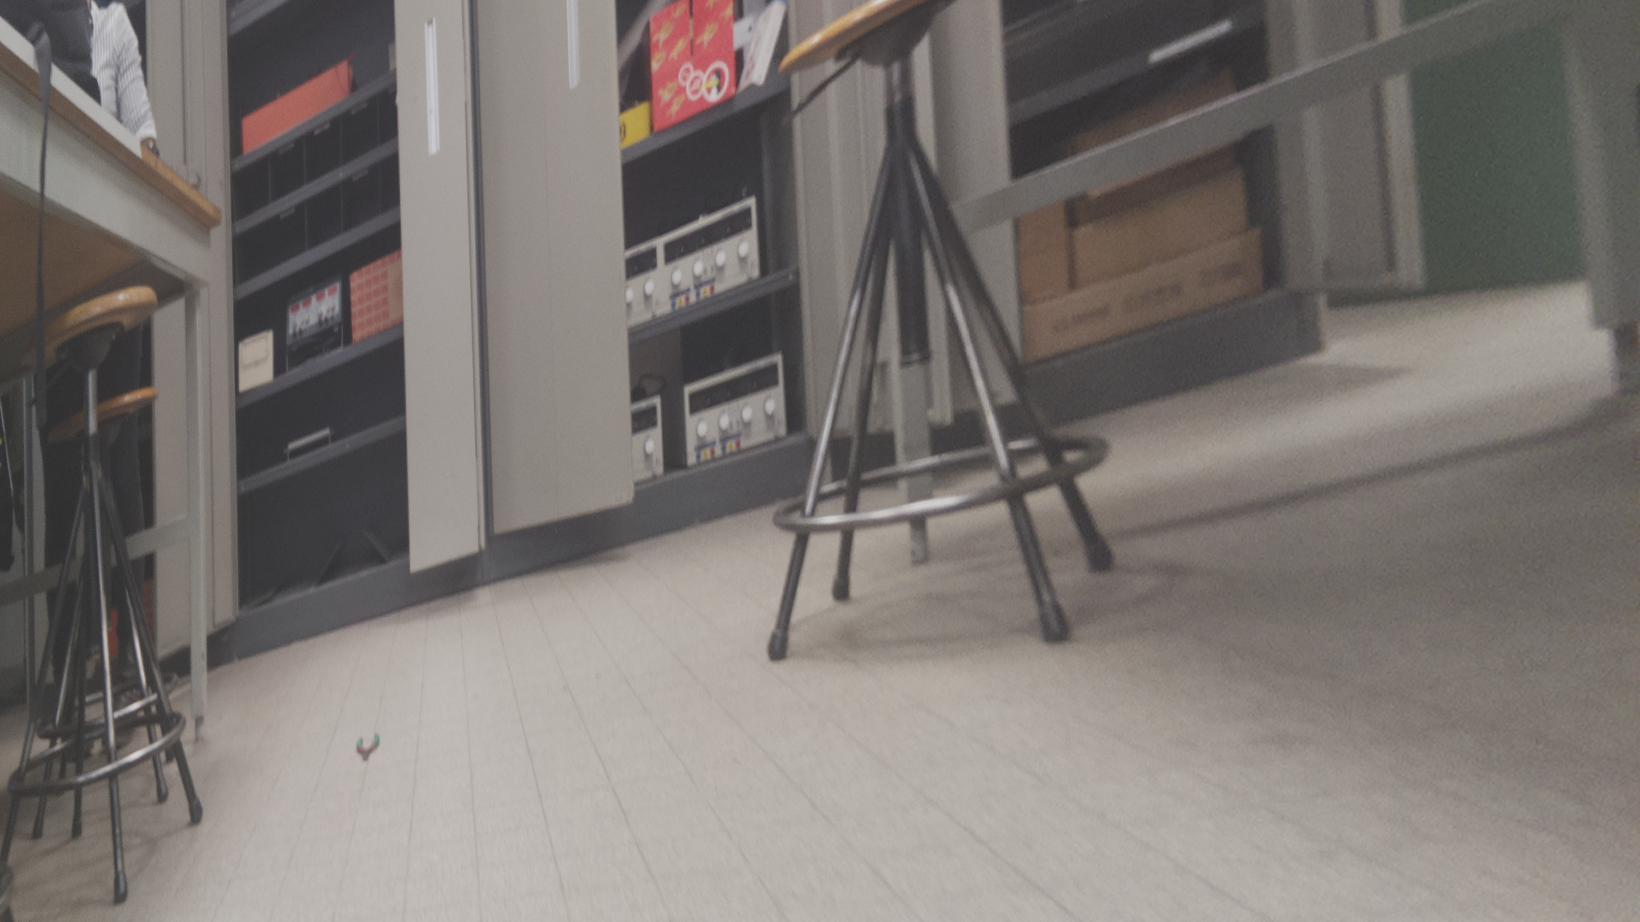small: (353, 731, 384, 763)
